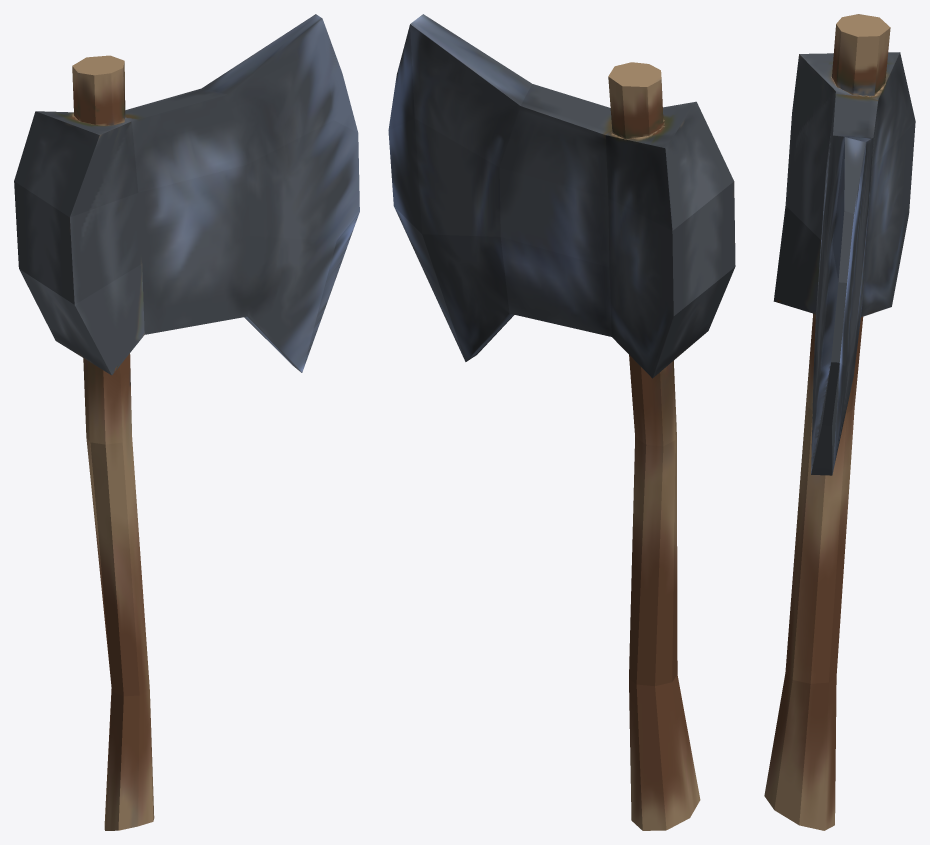
The model's file is axe-type-01.obj.
3 views of the same model, side by side, from view 1: azimuth 30°, elevation 25°; view 2: azimuth 150°, elevation 25°; view 3: azimuth 270°, elevation 25° (orthographic). The views are drawn at different scales.
Visible parts, largest first — view 1: axe-type-01; view 2: axe-type-01; view 3: axe-type-01.
Part boxes in pixels (x1,y1,x2,y2): axe-type-01: [14, 14, 359, 830]; axe-type-01: [388, 14, 735, 830]; axe-type-01: [764, 14, 915, 830].
Bounding box in the file's own units: 0.3152 × 0.7257 × 0.1247.
